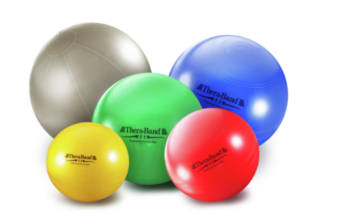blue ball: (168, 35, 288, 147)
red ball: (163, 106, 261, 204)
